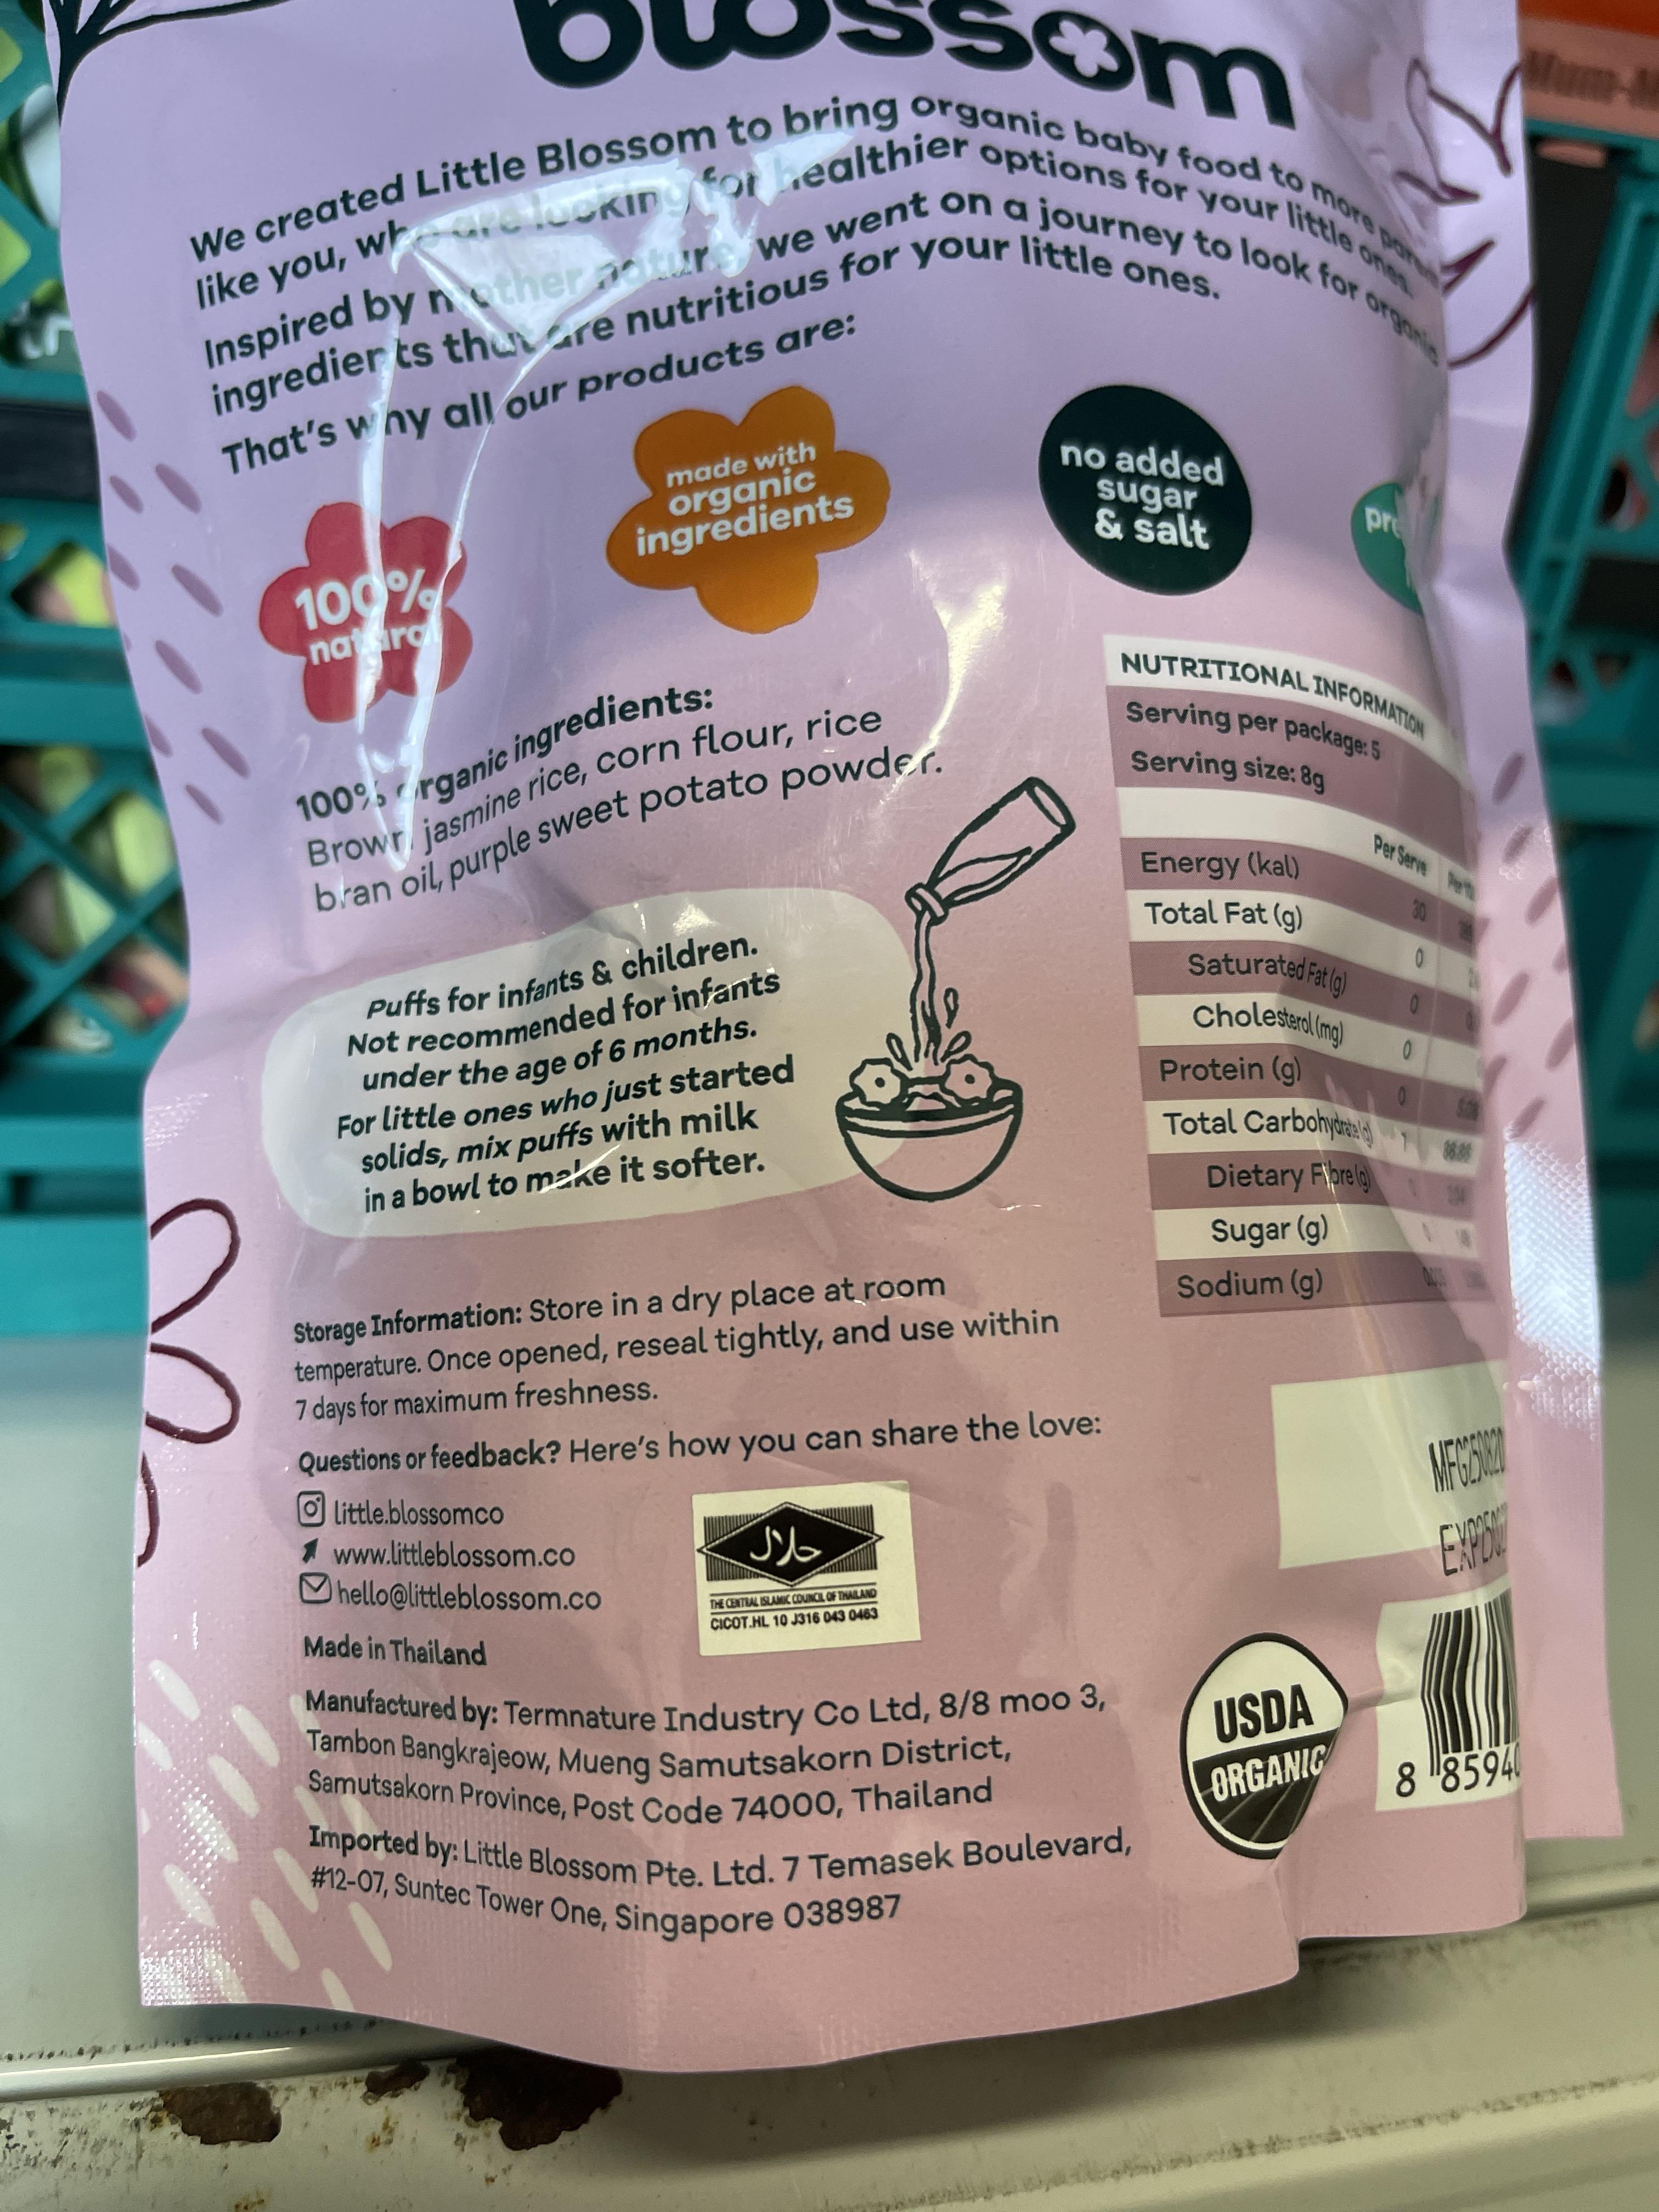object_name: (138, 0, 1575, 1888)
